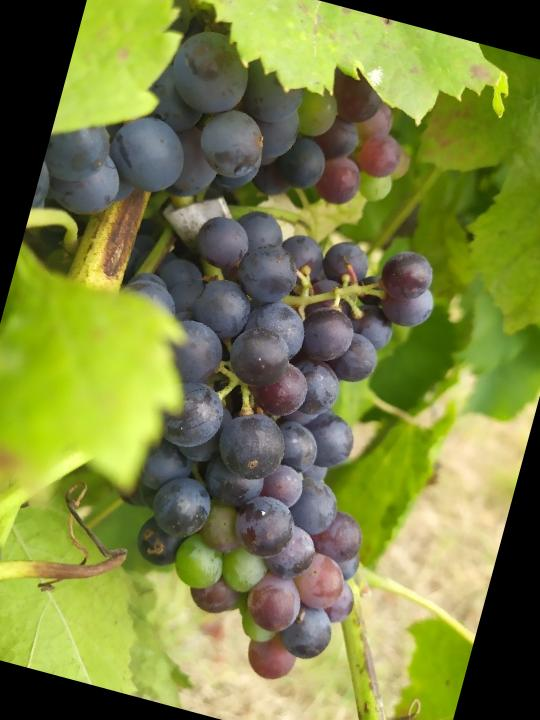grape: (31, 178, 451, 700)
